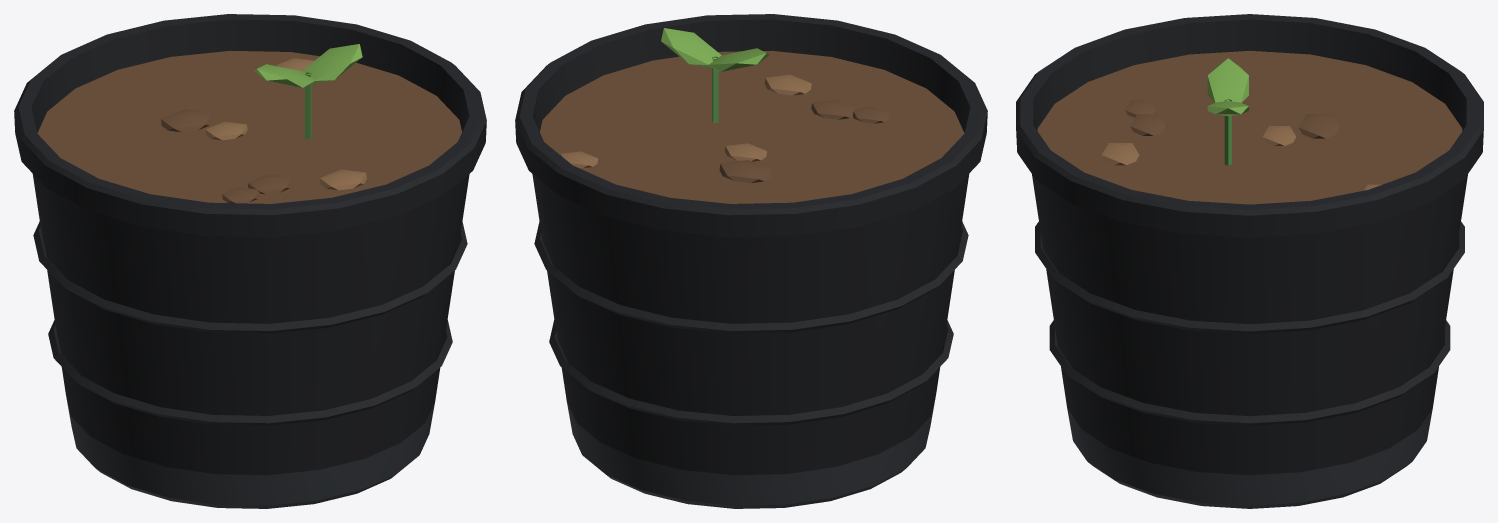
Rendered from SC_Home_Plastic_Pot_L.gltf.
3 renders of one model, left to right at view 1: azimuth 30°, elevation 25°; view 2: azimuth 150°, elevation 25°; view 3: azimuth 270°, elevation 25°, orthographic.
Parts seen in each view (by area): view 1: SC_Home_Plastic_Pot_L; view 2: SC_Home_Plastic_Pot_L; view 3: SC_Home_Plastic_Pot_L.
Boxes of the visible parts, box(x1,y1,x2,y2) form: SC_Home_Plastic_Pot_L: box(14, 14, 486, 508); SC_Home_Plastic_Pot_L: box(515, 14, 987, 508); SC_Home_Plastic_Pot_L: box(1016, 14, 1483, 508).
Size of the model in its own units: 0.436 by 0.3827 by 0.4316.
Materials: 1 (1 with a texture image).
